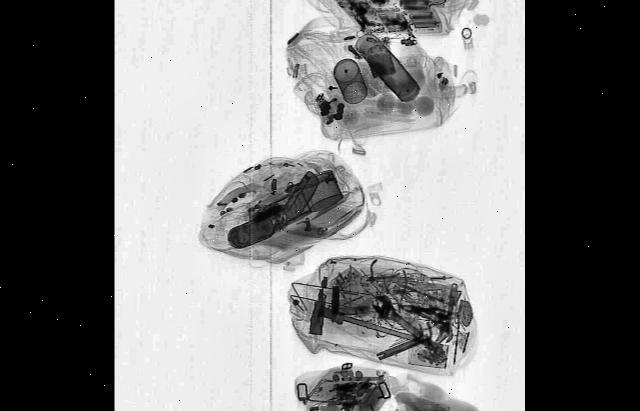Pliers: (364, 245, 398, 296), (383, 266, 410, 318)
Wrench: (370, 284, 445, 366), (436, 276, 463, 346)
